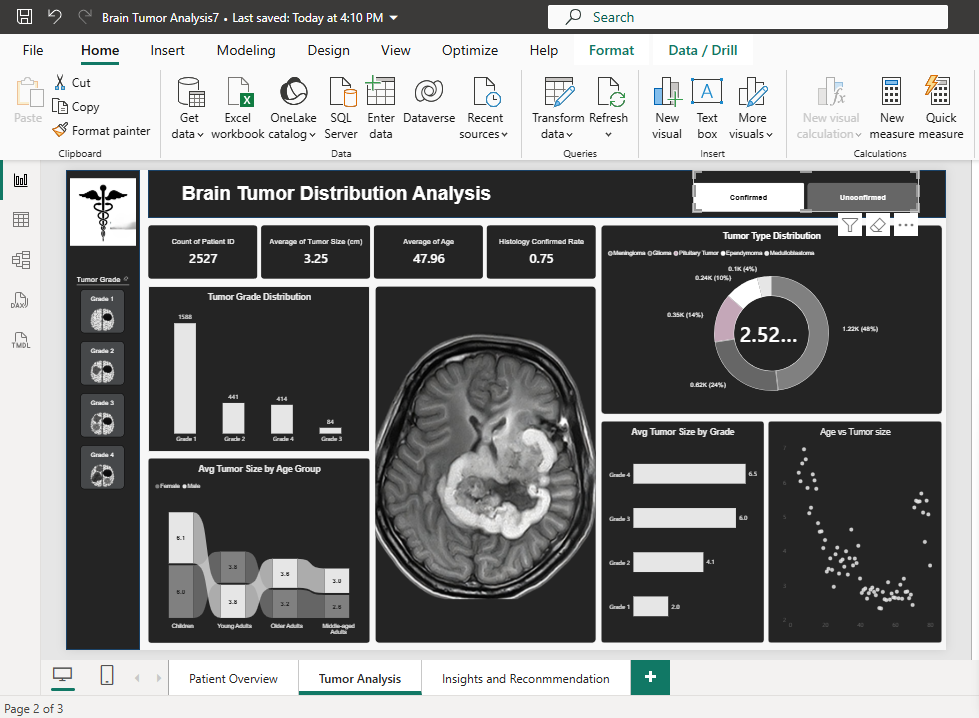

This screenshot's page, from the dashboard's own definition file:
{"tool":"powerbi","page":{"name":"Tumor Analysis","canvas":[2200,1200],"ordinal":1},"visuals":[{"type":"shape","box":[0,0,185,1200],"z":0},{"type":"ChicletSlicer1448559807354","fields":{"Category":["Tumor Images.Tumor Grade"],"Image":["Tumor Images.Icon URL"]},"box":[10,250,164,598],"z":1000},{"type":"shape","box":[205,0,1995,120],"z":2000},{"type":"textbox","box":[270,30,812.5,57.5],"z":3000},{"type":"cardVisual","fields":{"Data":["Count(Brain Tumor Data.Patient ID)","Avg(Brain Tumor Data.Tumor Size (cm))","Avg(Brain Tumor Data.Age)","Brain Tumor Data.Histology Confirmation Rate"]},"box":[205,137.5,1120,135],"z":4000},{"type":"image","box":[772.5,290,552.5,892.5],"z":5000},{"type":"donutChart","title":"Tumor Type Distribution","fields":{"Category":["Brain Tumor Data.Tumor Type"],"Y":["Count(Brain Tumor Data.Patient ID)"]},"box":[1337.5,137.5,852.5,472.5],"z":6000},{"type":"columnChart","title":"Tumor Grade Distribution","fields":{"Category":["Brain Tumor Data.Tumor Grade"],"Y":["CountNonNull(Brain Tumor Data.Patient ID)"]},"box":[205,290,555,415],"z":7000},{"type":"barChart","title":"Avg Tumor Size by Grade","fields":{"Category":["Brain Tumor Data.Tumor Grade"],"Y":["Avg(Brain Tumor Data.Tumor Size (cm))"]},"box":[1337.5,627.5,407.5,555],"z":8000},{"type":"ribbonChart","title":"Avg Tumor Size by Age Group","fields":{"Category":["Brain Tumor Data.Age Group"],"Series":["Brain Tumor Data.Gender"],"Y":["Avg(Brain Tumor Data.Tumor Size (cm))"]},"box":[205,720,555,462.5],"z":9000},{"type":"scatterChart","title":"Age vs Tumor size","fields":{"X":["Brain Tumor Data.Age"],"Y":["Avg(Brain Tumor Data.Tumor Size (cm))"]},"box":[1755,627.5,435,555],"z":10000},{"type":"advancedSlicerVisual","fields":{"Values":["Brain Tumor Data.Histology Confirmation"]},"box":[1567.5,0,565,105],"z":11000},{"type":"image","box":[10,17.5,165,175],"z":12000}]}

Visuals, with their boxes on the page's 2200x1200 design canvas (x1, y1, x2, y2). These are canvas units, not pixel positions in the 979x718 screenshot, which may show the page scaled, cropped or inside an application window:
shape: <box>0,0,185,1200</box>
ChicletSlicer1448559807354 - Tumor Images.Tumor Grade x Tumor Images.Icon URL: <box>10,250,174,848</box>
shape: <box>205,0,2200,120</box>
textbox: <box>270,30,1082,88</box>
cardVisual - Count(Brain Tumor Data.Patient ID) x Avg(Brain Tumor Data.Tumor Size (cm)): <box>205,138,1325,272</box>
image: <box>772,290,1325,1182</box>
"Tumor Type Distribution" donutChart: <box>1338,138,2190,610</box>
"Tumor Grade Distribution" columnChart: <box>205,290,760,705</box>
"Avg Tumor Size by Grade" barChart: <box>1338,628,1745,1182</box>
"Avg Tumor Size by Age Group" ribbonChart: <box>205,720,760,1182</box>
"Age vs Tumor size" scatterChart: <box>1755,628,2190,1182</box>
advancedSlicerVisual - Brain Tumor Data.Histology Confirmation: <box>1568,0,2132,105</box>
image: <box>10,18,175,192</box>
